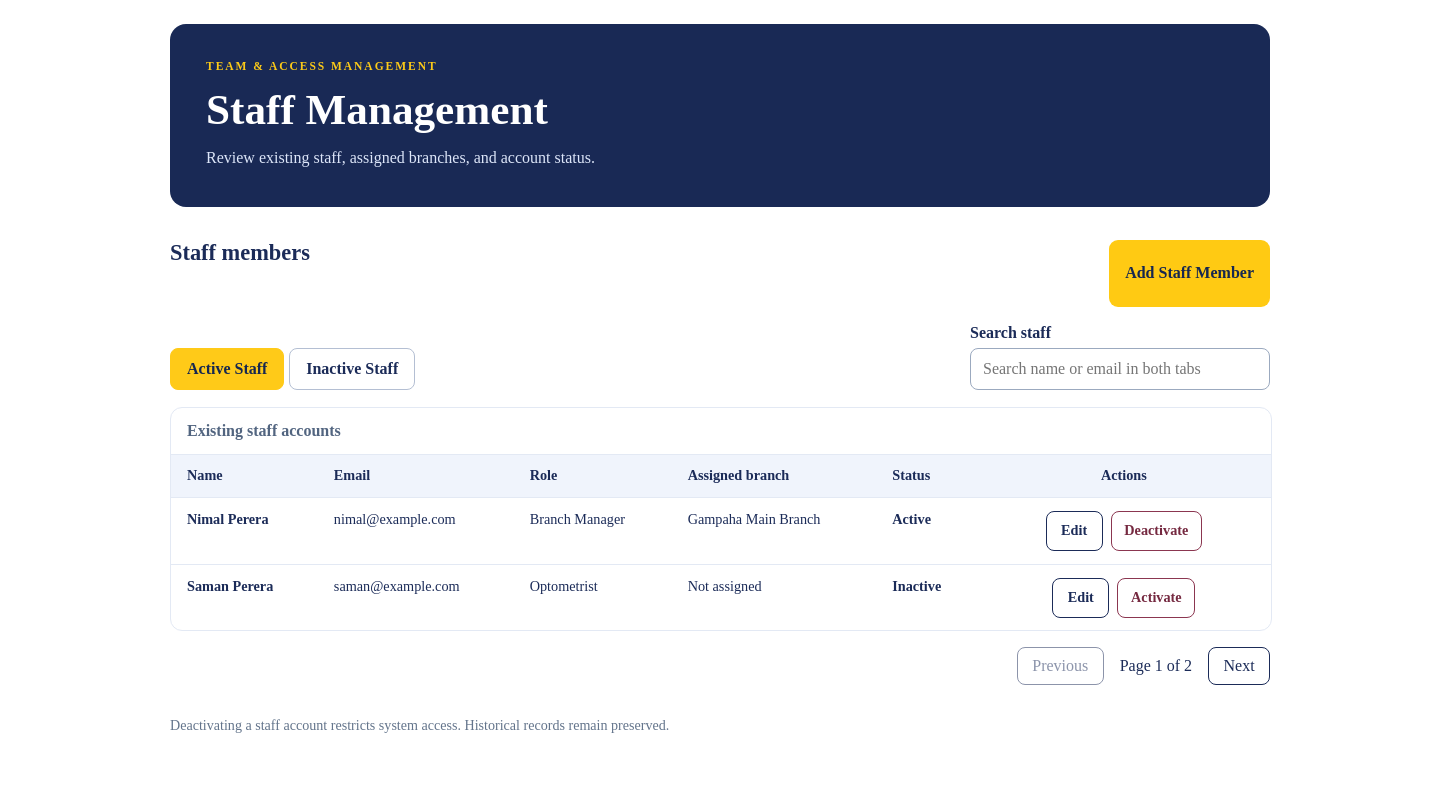
DDP-094 Staff Management List › activates an inactive account and reloads the list
The width and height of the screenshot is (1440, 810).
Expected: the column heading "Saman Perera" is shown, left=171, top=564, right=318, bottom=630
Click the button named "Activate Saman Perera".
click(1156, 598)  # box left=1117, top=578, right=1196, bottom=618
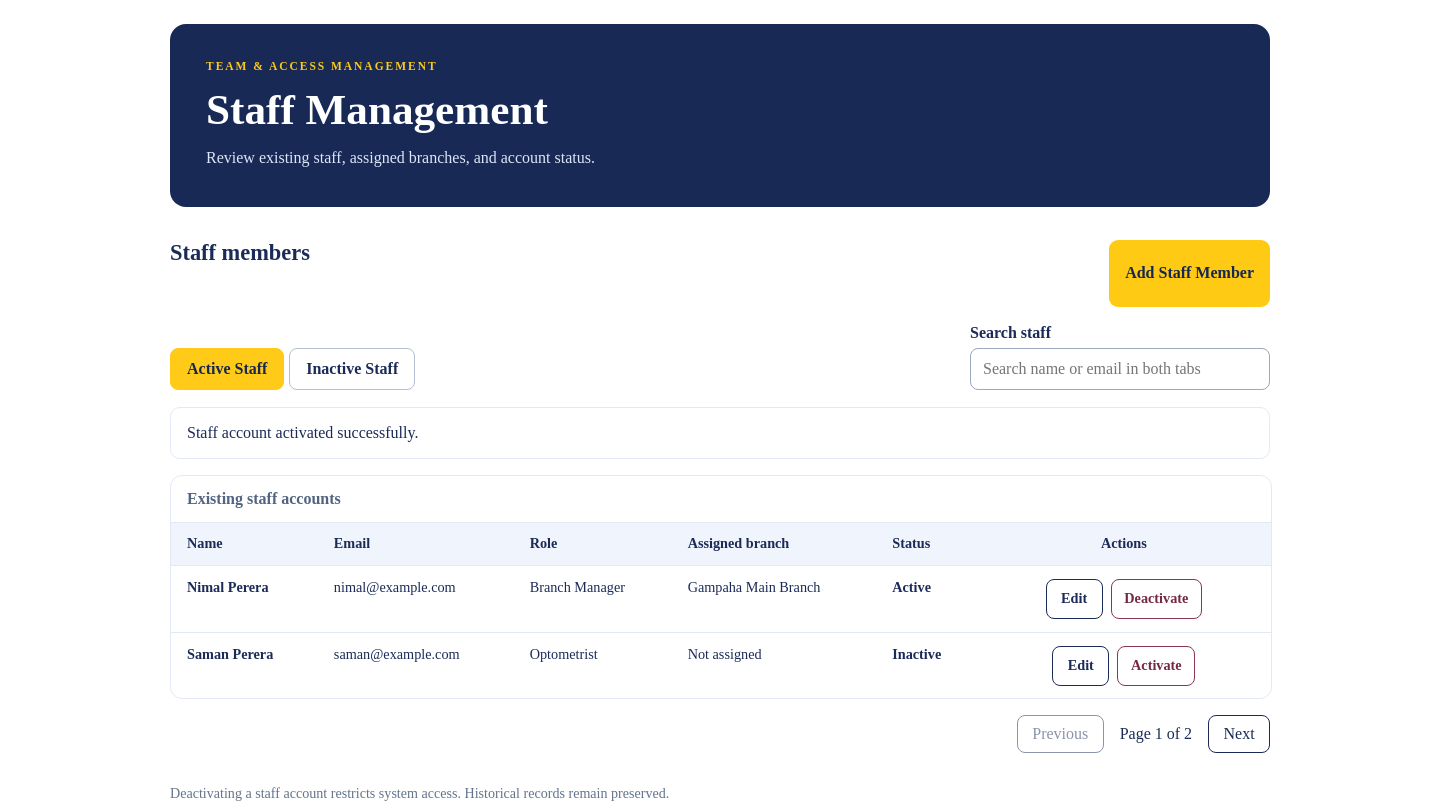
Now the text "Staff account activated successfully." is shown, box left=170, top=407, right=1270, bottom=459
